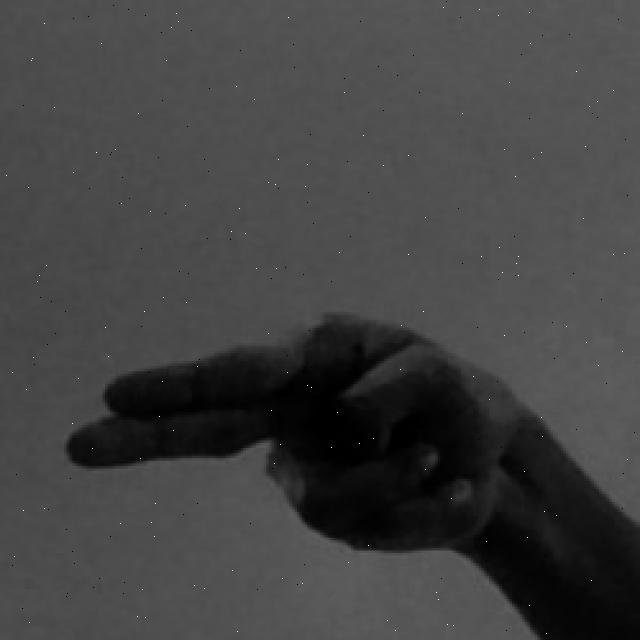H: (61, 302, 640, 640)
